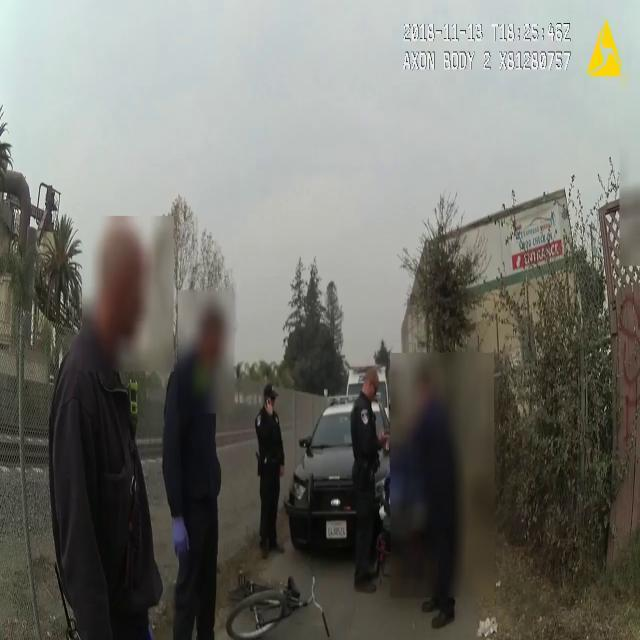gun: (253, 446, 264, 479)
